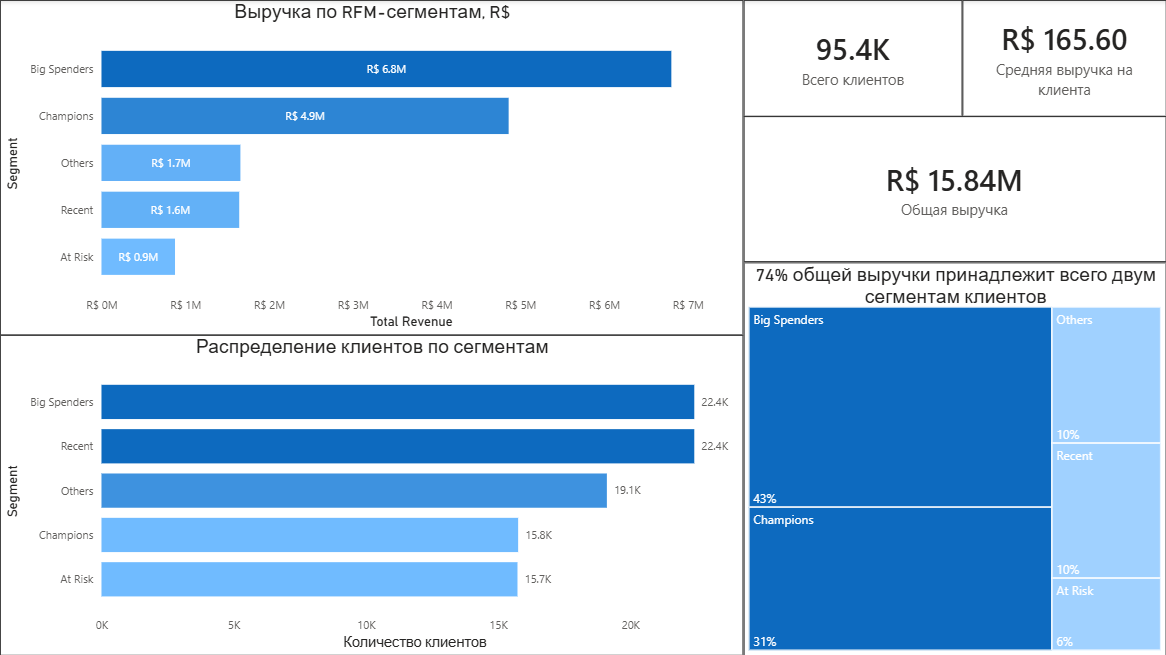

This screenshot's page, from the dashboard's own definition file:
{"tool":"powerbi","page":{"name":"RFM-сегменты","canvas":[1280,720],"ordinal":1},"visuals":[{"type":"clusteredBarChart","title":"Выручка по RFM-сегментам, R$","fields":{"Category":["public v_rfm.segment"],"Y":["Sum(public v_rfm.total_revenue)"]},"box":[0,0,816,368],"z":0},{"type":"cardVisual","fields":{"Data":["Sum(public v_rfm.n_customers)"]},"box":[816,0,240,128],"z":1000},{"type":"cardVisual","fields":{"Data":["Avg(public v_rfm.avg_revenue)"]},"box":[1056,0,224,128],"z":2000},{"type":"cardVisual","fields":{"Data":["Sum(public v_rfm.total_revenue)"]},"box":[816,128,464,160],"z":3000},{"type":"treemap","title":"74% общей выручки принадлежит всего двум сегментам клиентов","fields":{"Group":["public v_rfm.segment"],"Values":["Sum(public v_rfm.total_revenue)"]},"box":[816,288,464,432],"z":4000},{"type":"clusteredBarChart","title":"Распределение клиентов по сегментам","fields":{"Category":["public v_rfm.segment"],"Y":["Sum(public v_rfm.n_customers)"]},"box":[0,368,816,352],"z":5000}]}

Visuals, with their boxes in screenshot pixels (x1, y1, x2, y2), scaled from the page's 1280x720 canvas onto the 1166x655 screenshot:
"Выручка по RFM-сегментам, R$" clusteredBarChart: 0 0 743 335
cardVisual - Sum(public v_rfm.n_customers): 743 0 962 116
cardVisual - Avg(public v_rfm.avg_revenue): 962 0 1165 116
cardVisual - Sum(public v_rfm.total_revenue): 743 116 1165 262
"74% общей выручки принадлежит всего двум сегментам клиентов" treemap: 743 262 1165 654
"Распределение клиентов по сегментам" clusteredBarChart: 0 335 743 654
